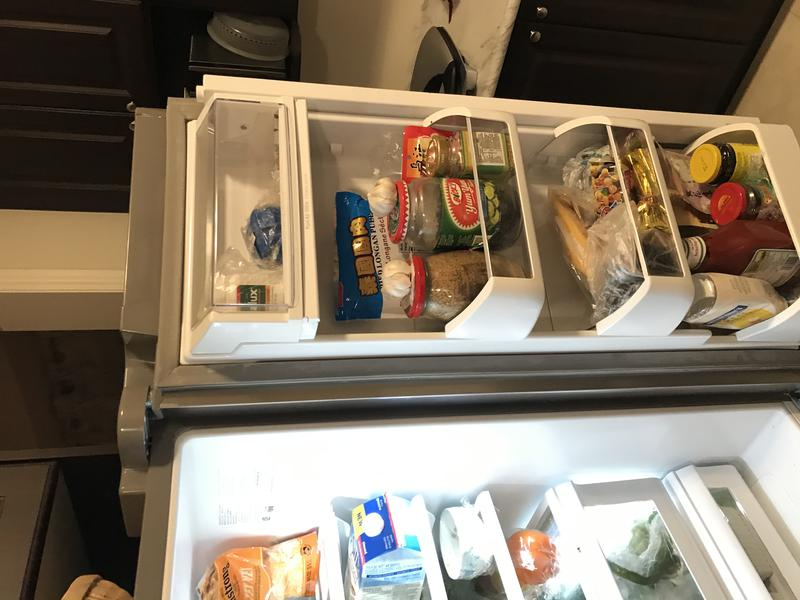garlic: (362, 174, 403, 218), (375, 257, 413, 304)
